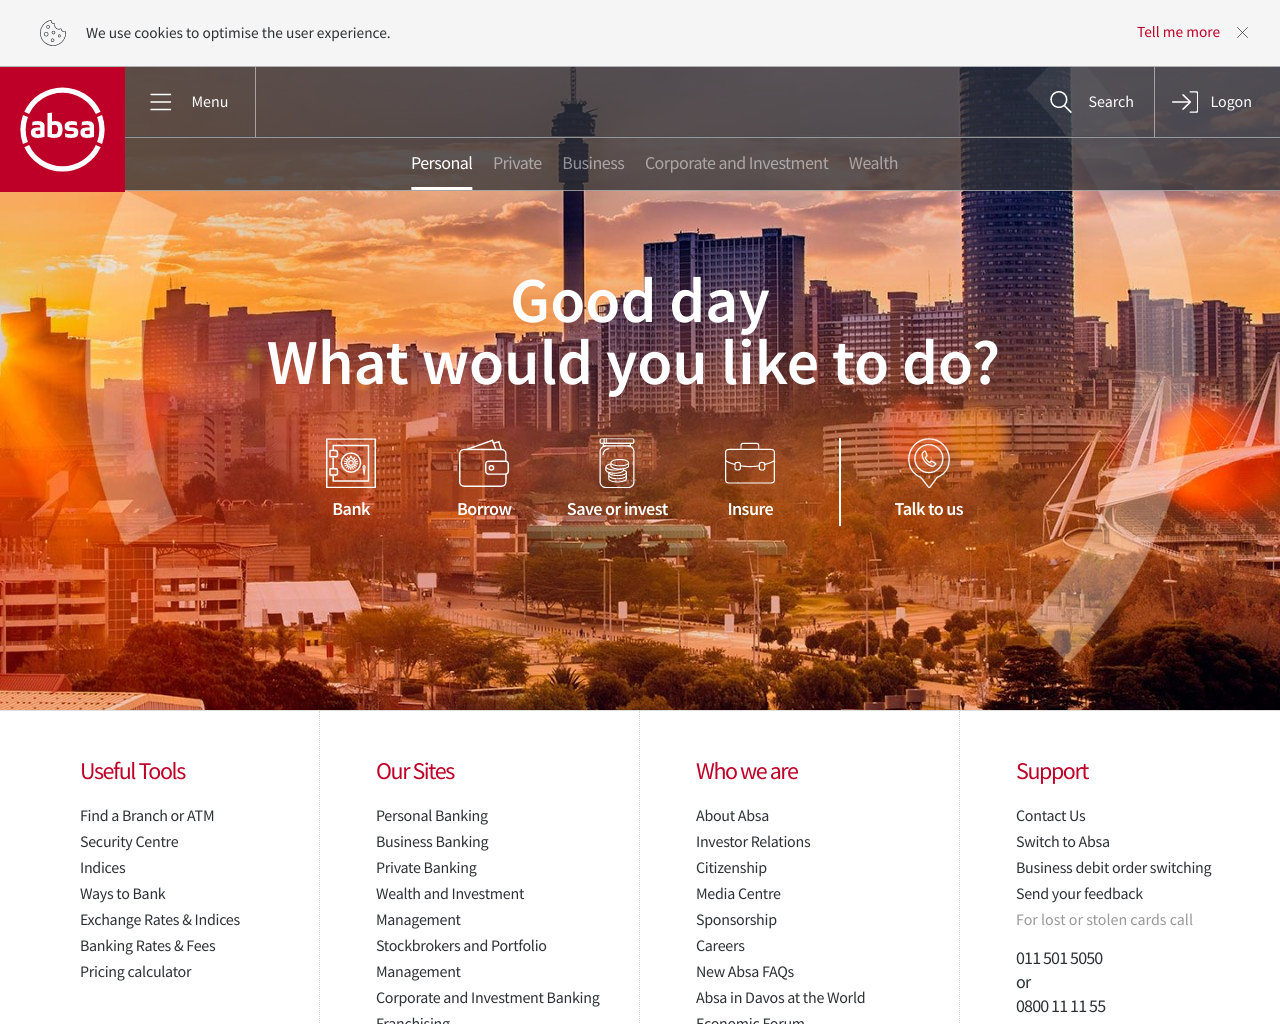ABSA: (17, 88, 109, 174)
